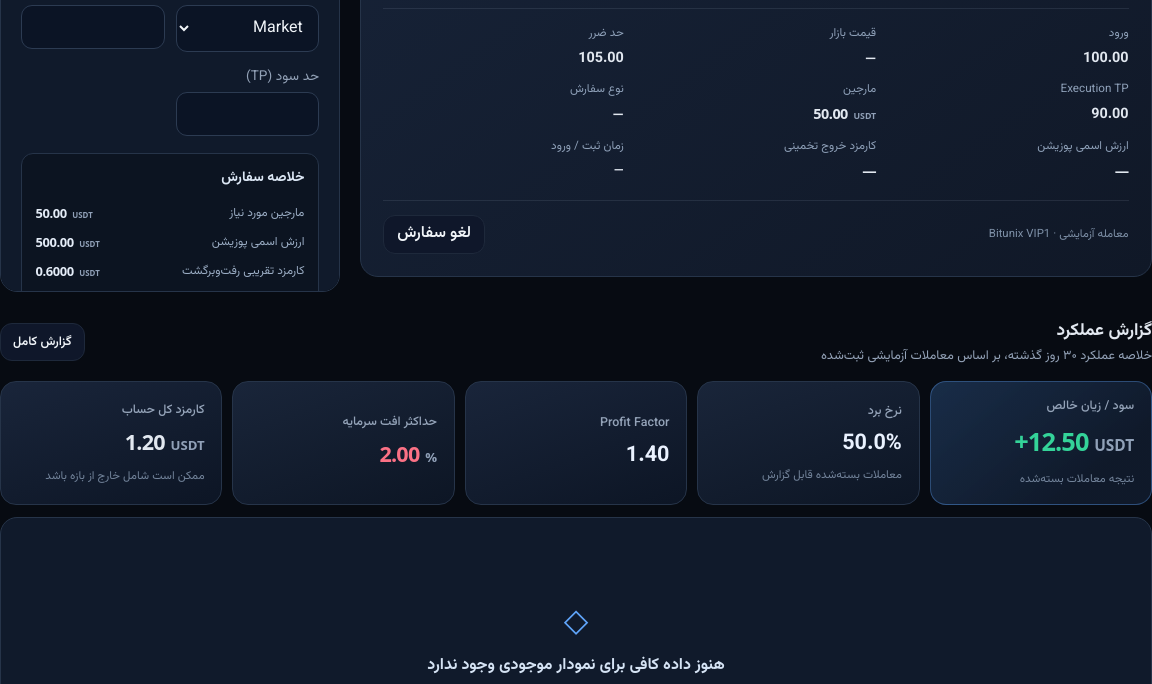
Test: PositionPage AI prefill › defaults to the approved combined dashboard with wallet, positions and 30-day report
The width and height of the screenshot is (1152, 684).
(page scrolled)
Expected: the heading "گزارش عملکرد" is shown, [1056,317,1151,344]
Click the button "گزارش کامل" at (42, 342), box [0,323,85,361]
(page scrolled)
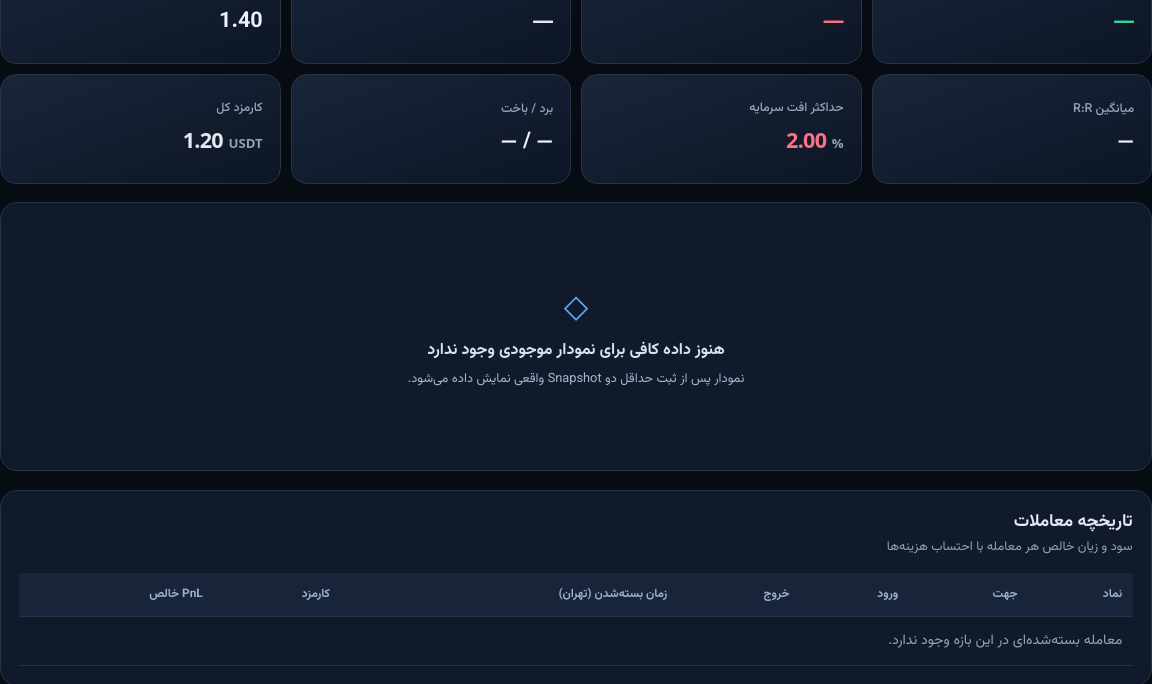
Expected: the heading "تاریخچه معاملات" is shown, [1014,508,1133,535]
